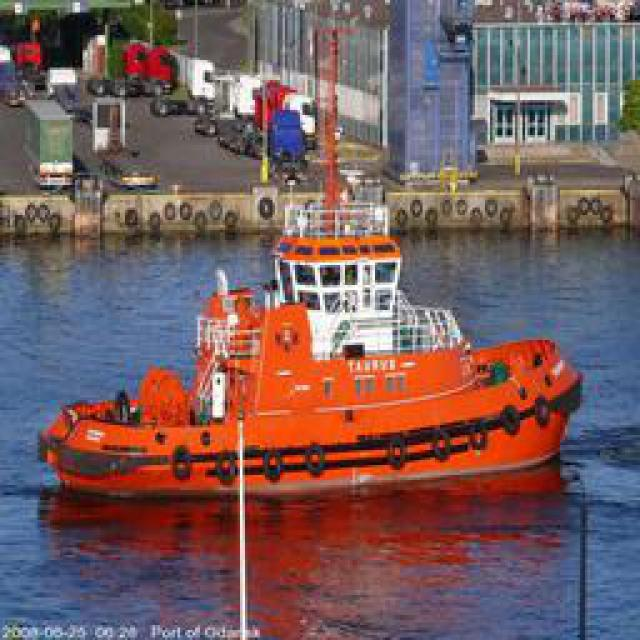Ship: (41, 205, 584, 498)
